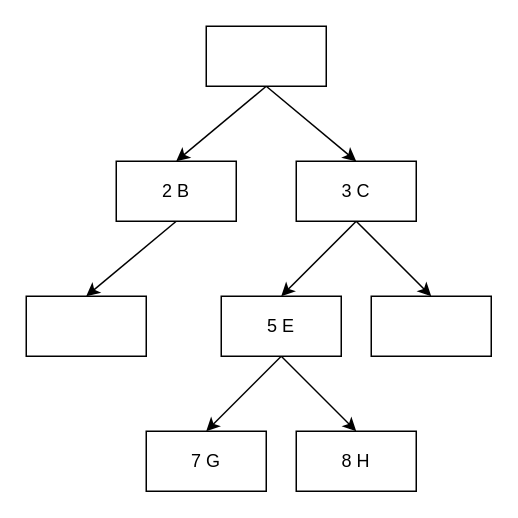
Some shapes in this 518 by 518 pixel diagram are drawn without their labels. The shapes that lost their labels are listed below. From the top down, each one's box as (x1, y1, x2, y2) in pixels, then its label:
(205, 25, 326, 86): 1 A
(25, 295, 146, 356): 4 D
(370, 295, 491, 356): 6 F
